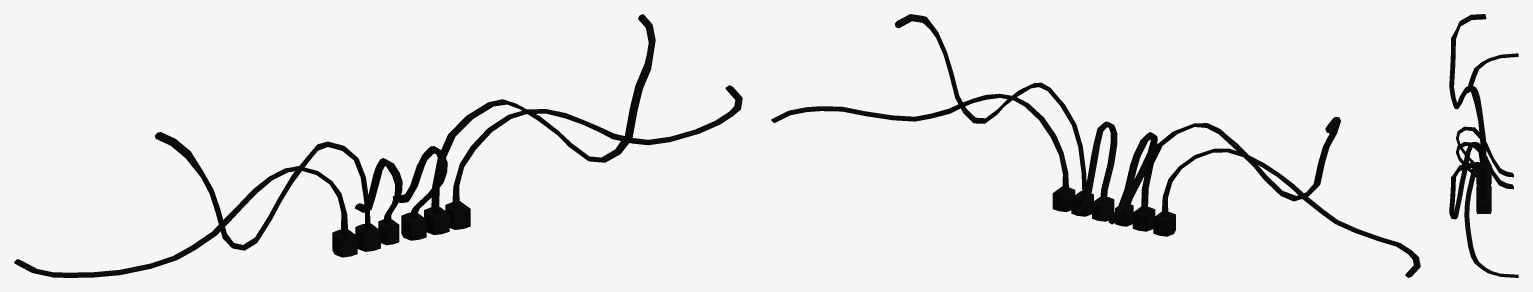
The model's file is powercords_combo.fbx.
3 views of the same model, side by side, from view 1: azimuth 30°, elevation 25°; view 2: azimuth 150°, elevation 25°; view 3: azimuth 270°, elevation 25° (orthographic). The views are drawn at different scales.
Parts seen in each view (by area): view 1: cord5, cord51, cord6, Duplicate02, cord4, cord40, plug3, plug6, plug5, plug2, plug1, plug4; view 2: cord51, Duplicate02, cord6, cord5, cord4, cord40, plug6, plug5, plug3, plug1; view 3: cord51, cord5, Duplicate02, cord40, cord6, cord4, plug1, plug5, plug2, plug3.
Boxes of the visible parts, <box> form: cord5: <box>431,14,655,213</box>; cord51: <box>155,132,370,250</box>; cord6: <box>14,166,348,277</box>; Duplicate02: <box>452,85,742,208</box>; cord4: <box>392,146,447,218</box>; cord40: <box>355,158,402,224</box>; plug3: <box>401,212,426,240</box>; plug6: <box>332,229,357,257</box>; plug5: <box>355,223,380,251</box>; plug2: <box>424,206,449,234</box>; plug1: <box>445,201,470,229</box>; plug4: <box>378,219,399,245</box>; cord51: <box>1141,117,1340,211</box>; Duplicate02: <box>771,93,1068,193</box>; cord6: <box>1161,148,1420,277</box>; cord5: <box>895,14,1086,197</box>; cord4: <box>1075,121,1117,215</box>; cord40: <box>1108,132,1157,224</box>; plug6: <box>1153,211,1175,236</box>; plug5: <box>1132,207,1155,231</box>; plug3: <box>1092,196,1114,221</box>; plug1: <box>1052,186,1075,211</box>; cord51: <box>1449,14,1486,172</box>; cord5: <box>1449,141,1486,219</box>; Duplicate02: <box>1464,162,1518,277</box>; cord40: <box>1456,126,1513,177</box>; cord6: <box>1467,53,1518,154</box>; cord4: <box>1456,142,1513,189</box>; plug1: <box>1476,197,1491,213</box>; plug5: <box>1476,169,1491,184</box>; plug2: <box>1476,191,1491,199</box>; plug3: <box>1476,183,1491,193</box>.
Size of the model in its own units: 5.17 by 1.13 by 0.6816.
